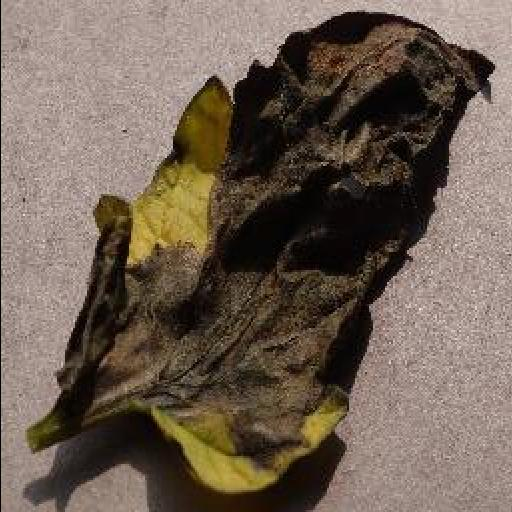disease_tomato: (54, 10, 488, 492)
